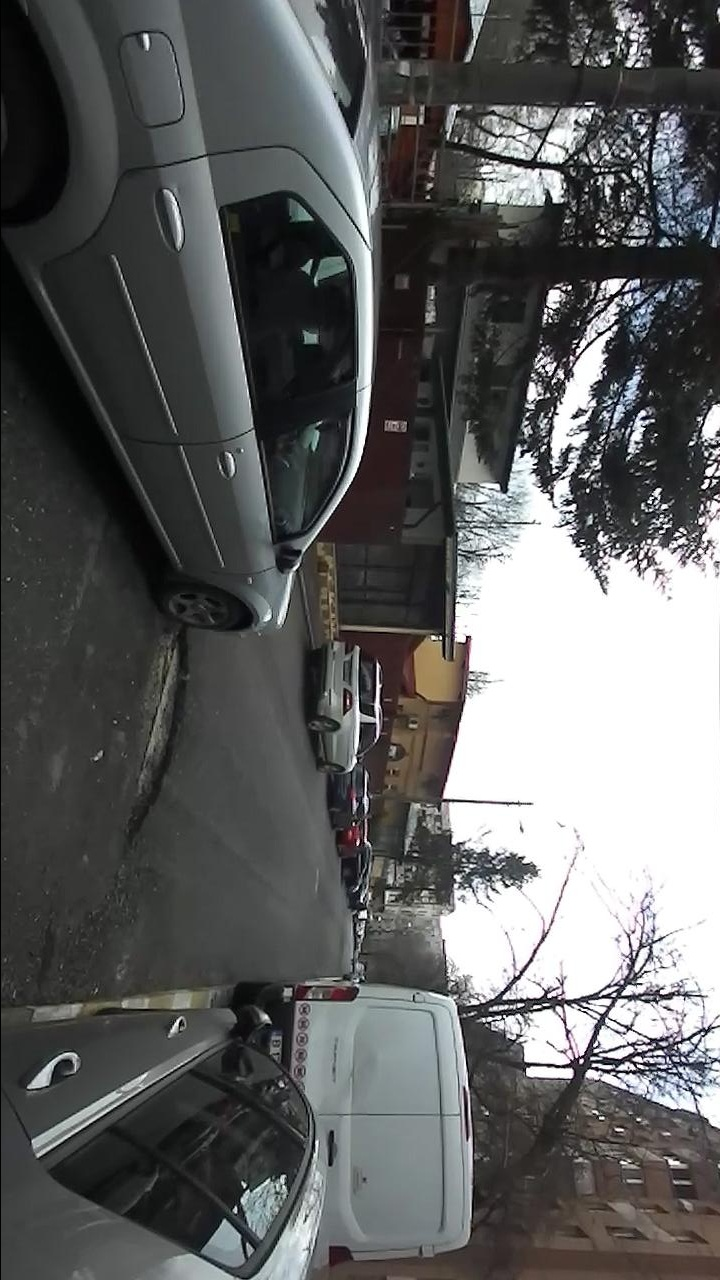pothole: (120, 628, 193, 856)
